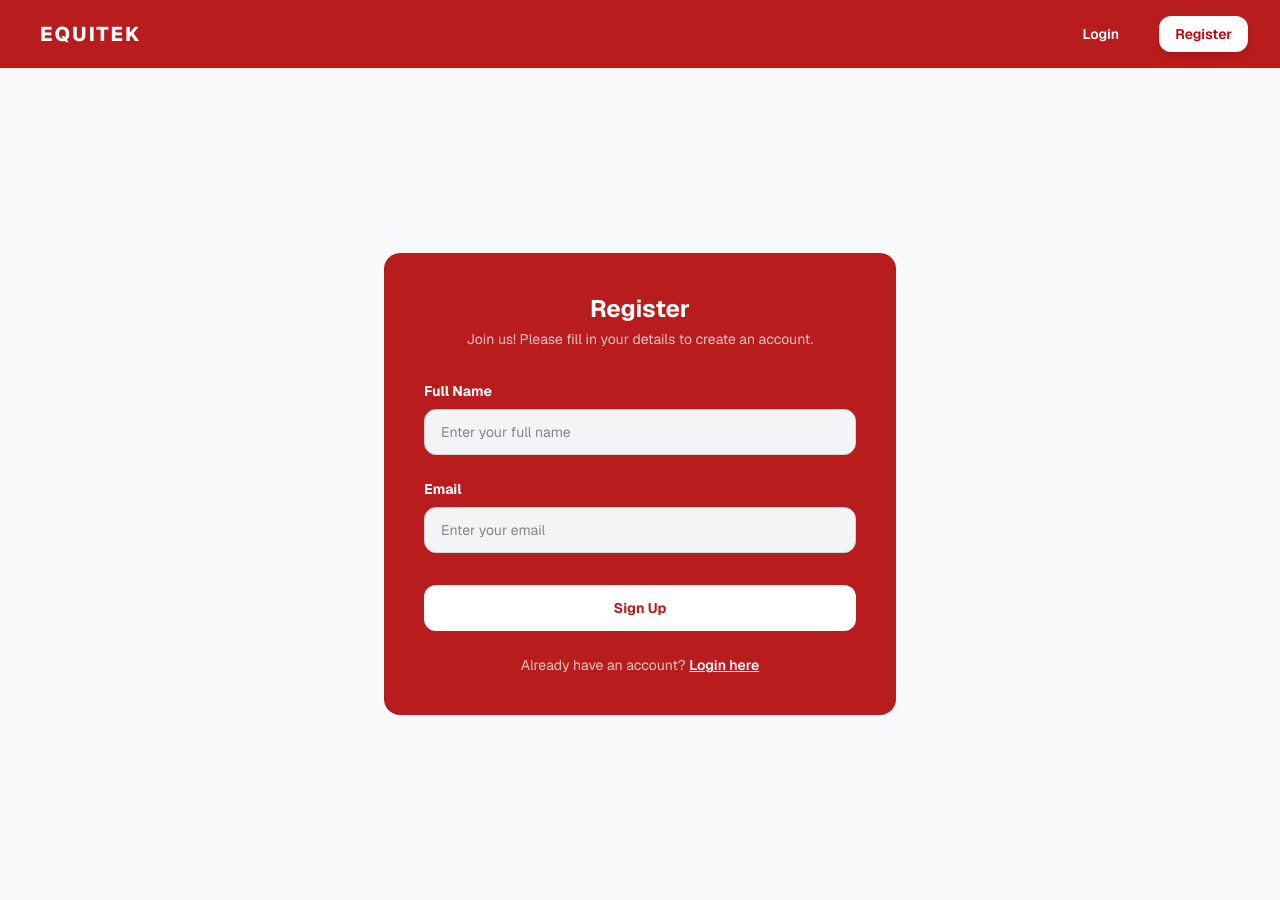
Scenario: Registration Page › client-side validation › shows required error messages if fields are empty on submit
Type "John Doe" into the field labelled "Full Name" at (640, 432), box 424,409 -> 856,455
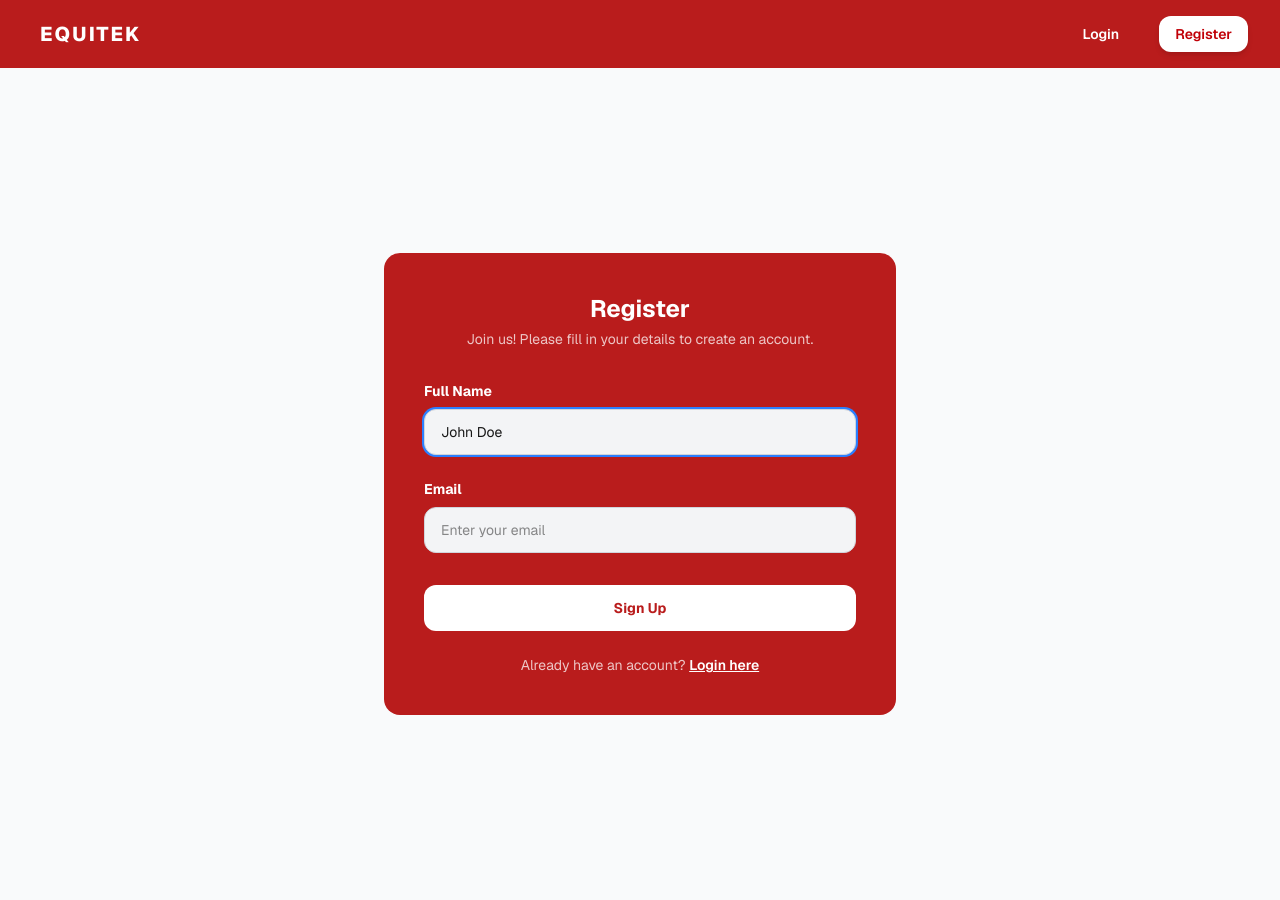
Click the button "Sign Up" at (640, 608), box 424,585 -> 856,631
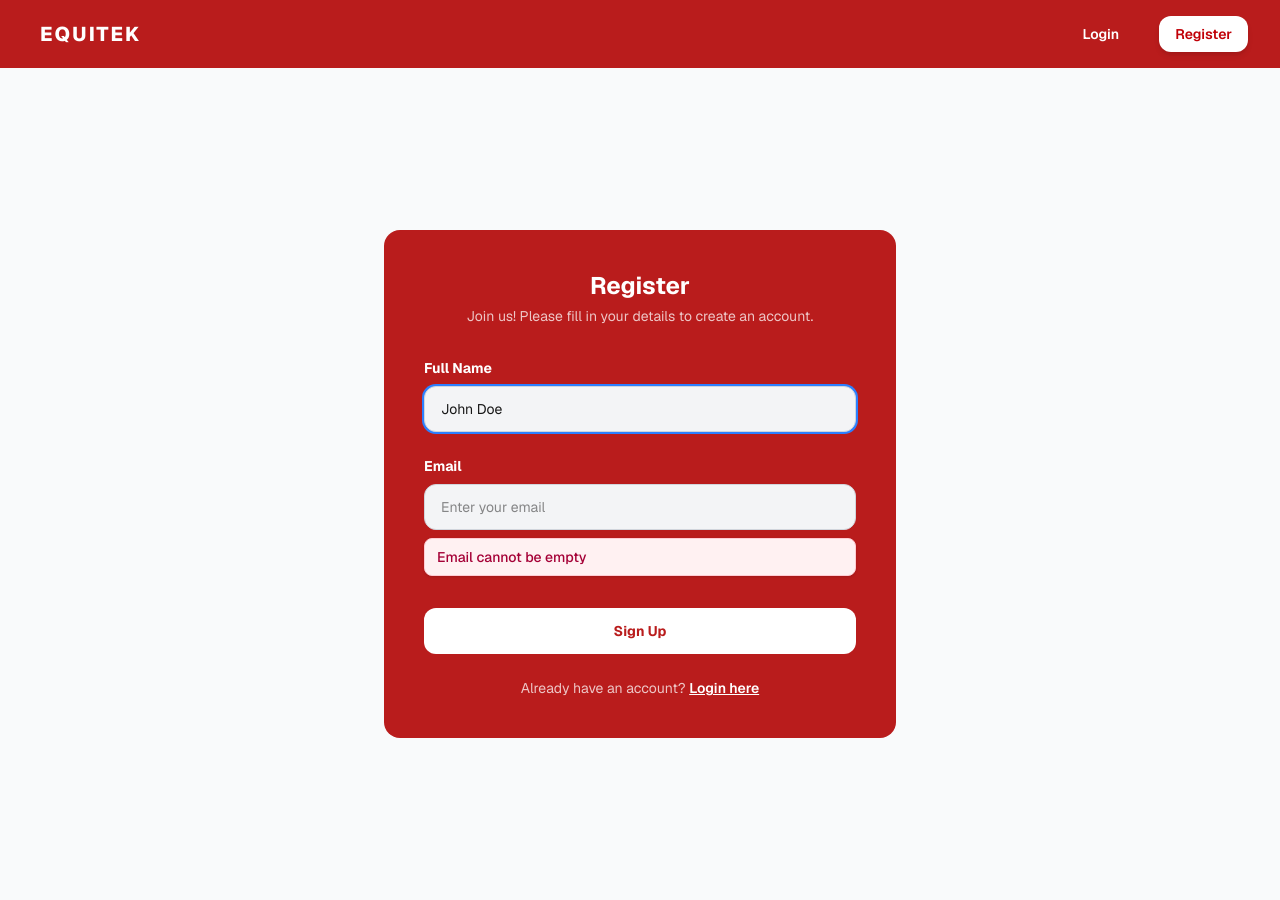
expect the text "Email cannot be empty" is shown: met, box 424,538 -> 856,576
